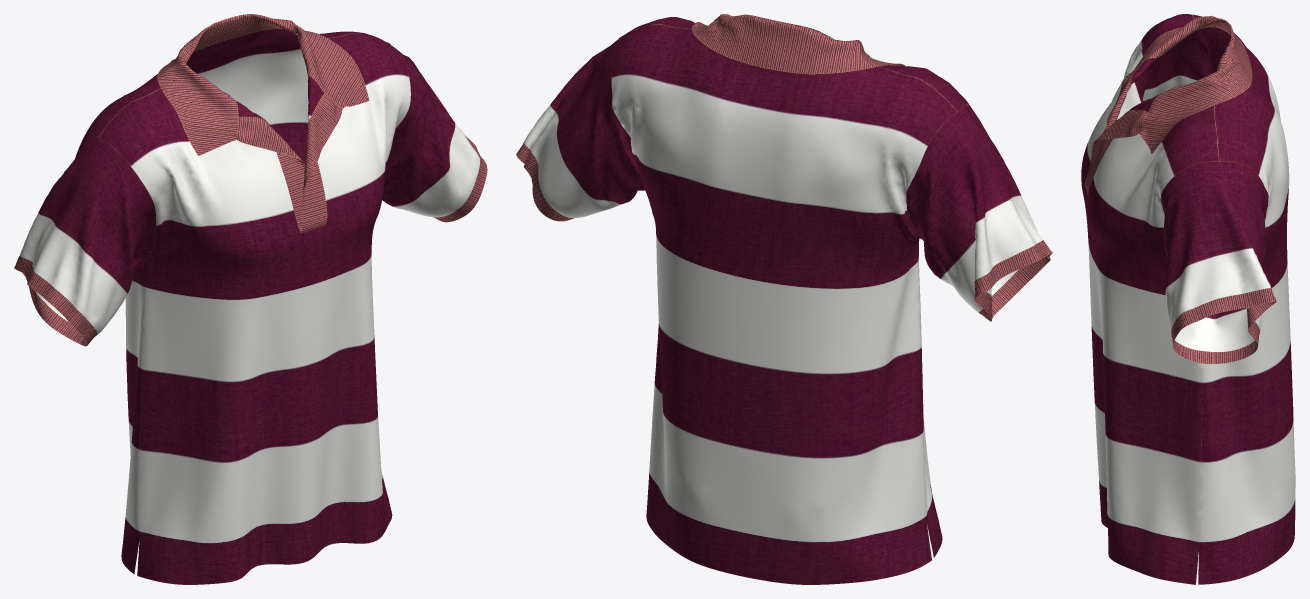
The model's file is Tshirt1-3.glb.
3 renders of one model, left to right at view 1: azimuth 30°, elevation 25°; view 2: azimuth 150°, elevation 25°; view 3: azimuth 270°, elevation 25°, orthographic. The views are drawn at different scales.
Visible parts, largest first — view 1: Tshirt; view 2: Tshirt; view 3: Tshirt.
Part boxes in pixels (box(x1,y1,x2,y2)): Tshirt: box(14, 14, 487, 584); Tshirt: box(516, 14, 1052, 584); Tshirt: box(1081, 14, 1295, 584).
Size of the model in its own units: 0.6777 by 0.7095 by 0.278.
Materials: 1 (1 with a texture image).
